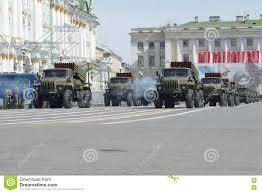MIL_SAM_TEL: (152, 59, 206, 110), (34, 62, 92, 108), (103, 70, 144, 106), (200, 71, 228, 106)
